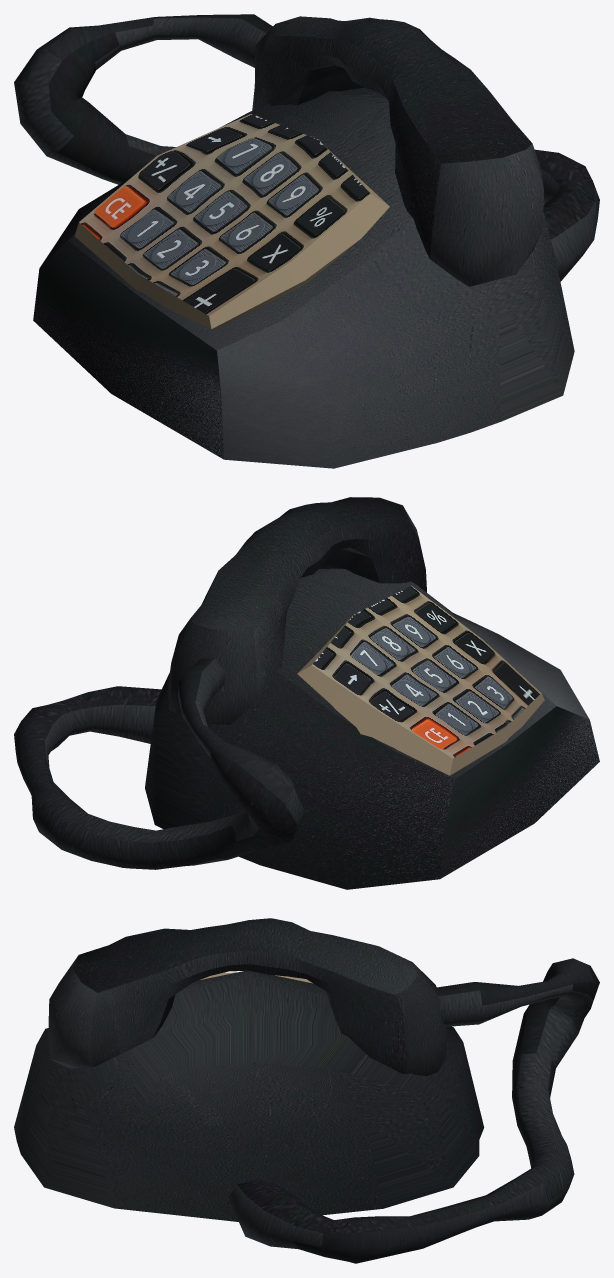
File: Telephone.fbx
3 views of the same model, one above another, from view 1: azimuth 30°, elevation 25°; view 2: azimuth 150°, elevation 25°; view 3: azimuth 270°, elevation 25° (orthographic). The views are drawn at different scales.
Visible parts, largest first — view 1: Cube.058; view 2: Cube.058; view 3: Cube.058.
Part boxes in pixels (bbox=[...]): Cube.058: bbox=[14, 14, 599, 468]; Cube.058: bbox=[14, 497, 599, 889]; Cube.058: bbox=[14, 918, 599, 1263].
Bounding box in the file's own units: 0.8083 × 0.8873 × 0.4242.
